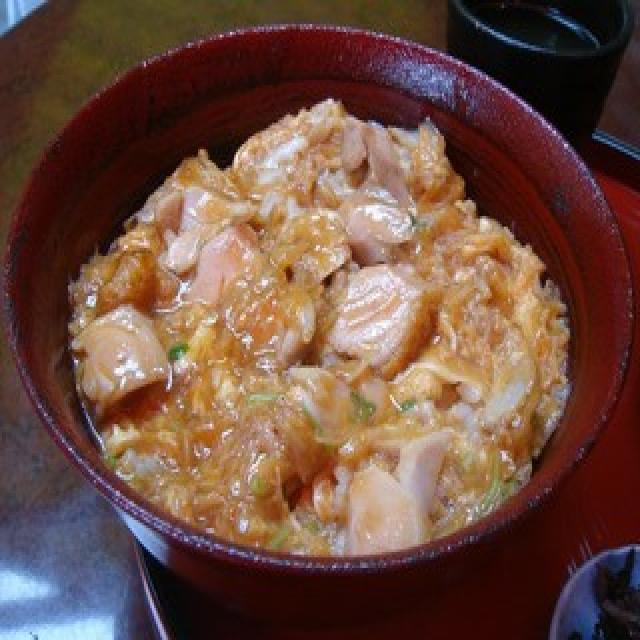米饭主食: (0, 5, 640, 640)
